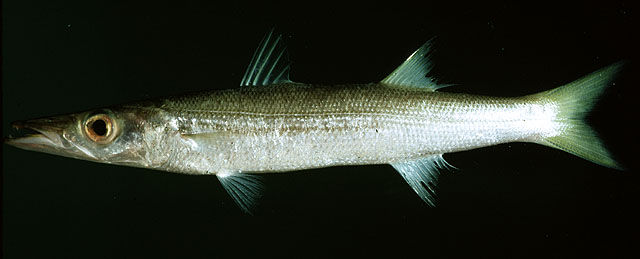fish: (4, 30, 623, 209)
